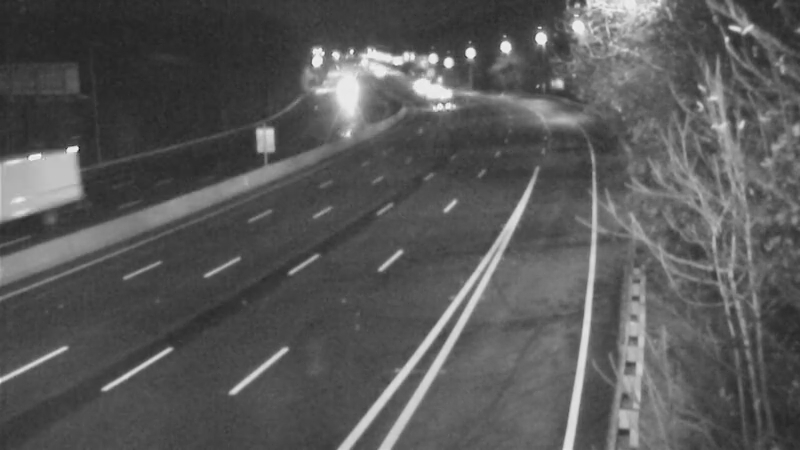vehicle: (4, 162, 84, 242), (384, 61, 434, 111), (407, 65, 457, 115), (423, 69, 473, 119), (418, 82, 468, 132)
